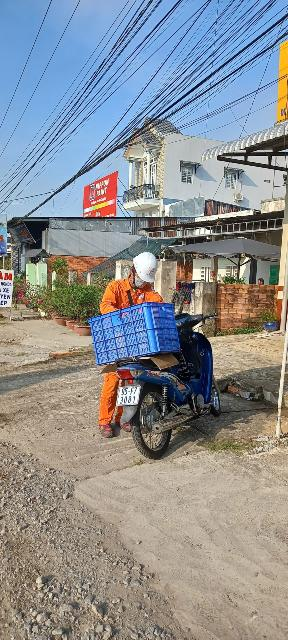helmet: (128, 249, 167, 287)
shoes: (94, 419, 116, 449), (114, 410, 133, 436)
